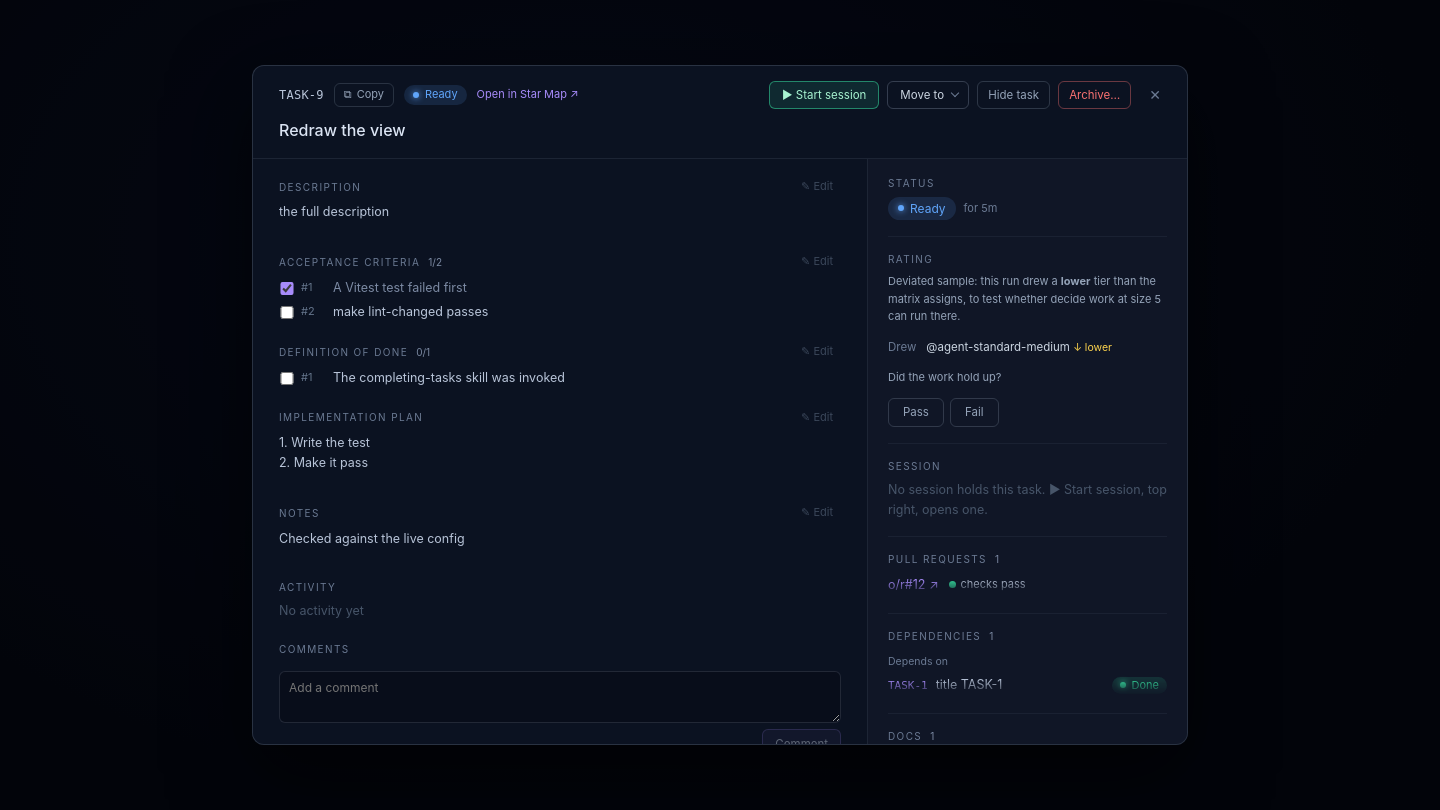
it: the Rating section of the task view › closes only the reason field on Escape and leaves the modal open
This screenshot has width=1440, height=810.
Step 1. Click the button "Fail" → (974, 412), box [950,398,998,427]
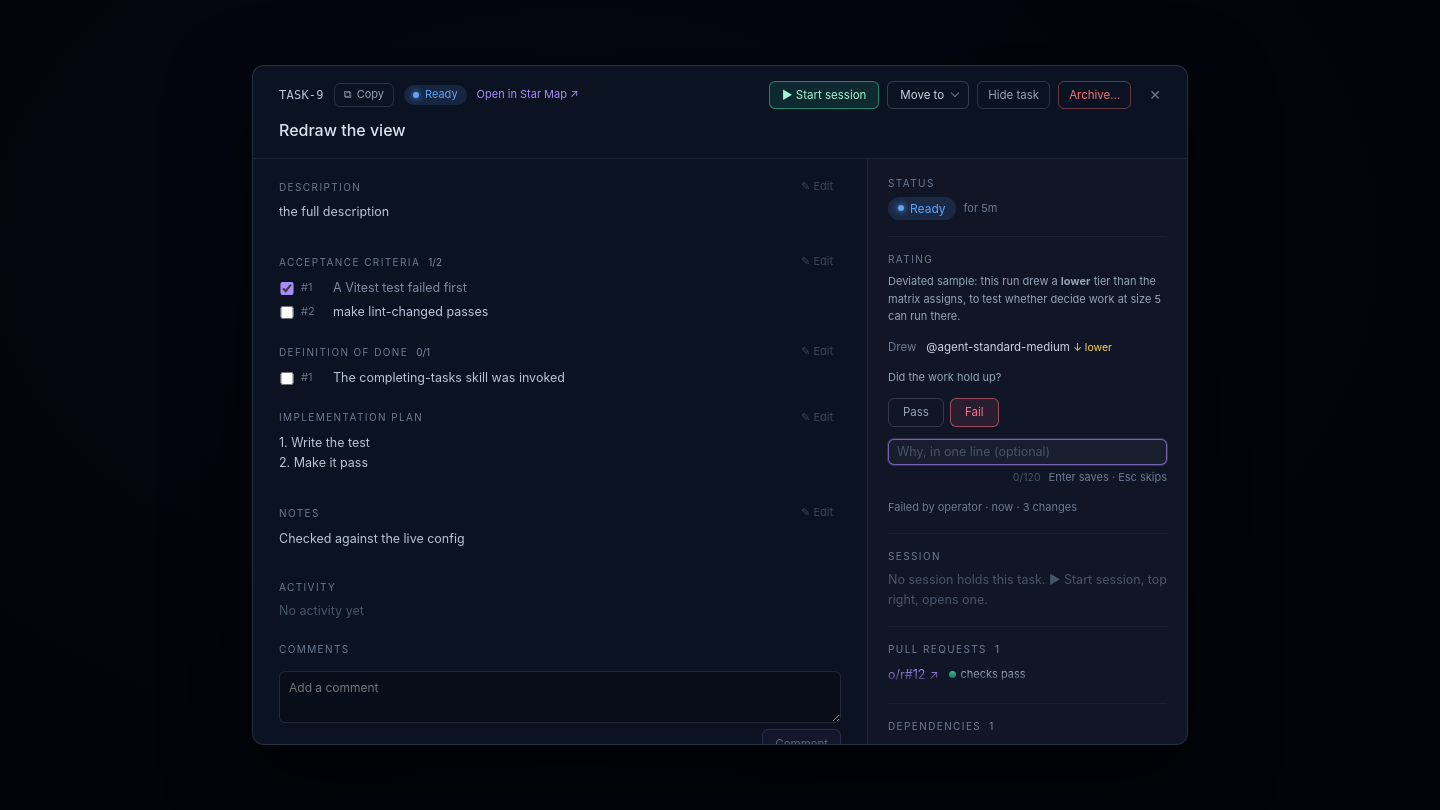
Expected: the field with placeholder "Why, in one line (optional)" is shown
Step 2. Press Escape in the field with placeholder "Why, in one line (optional)", box [888,438,1167,465]
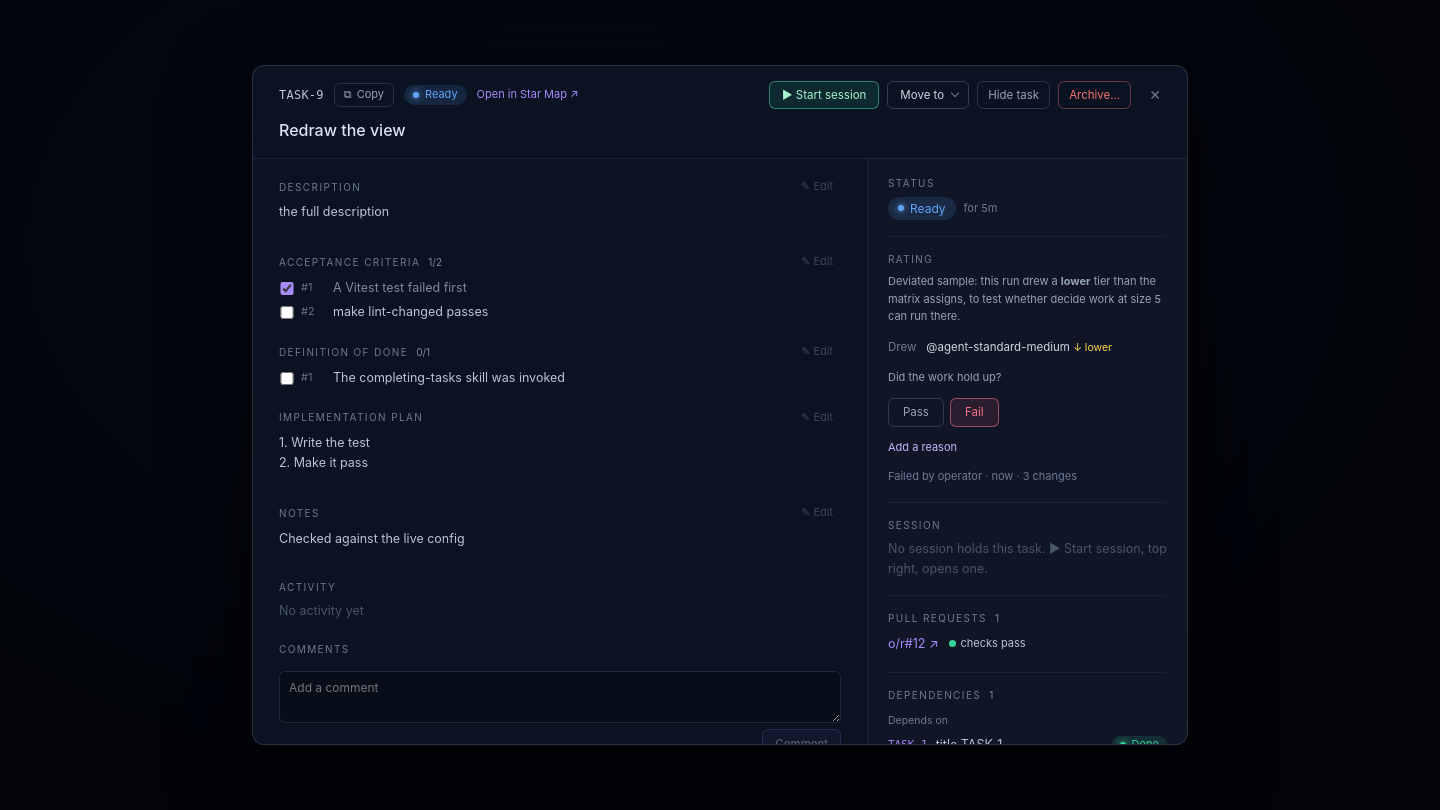
Expected: the button "Add a reason" is shown, [888,438,957,456]
